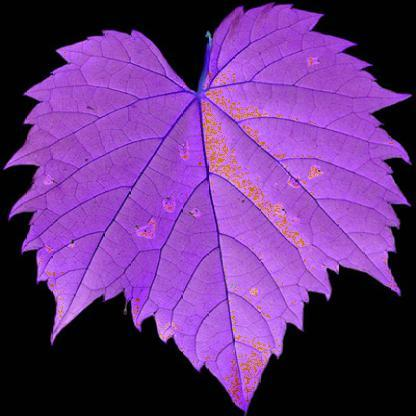grape leaf black rot: (1, 3, 408, 415)
